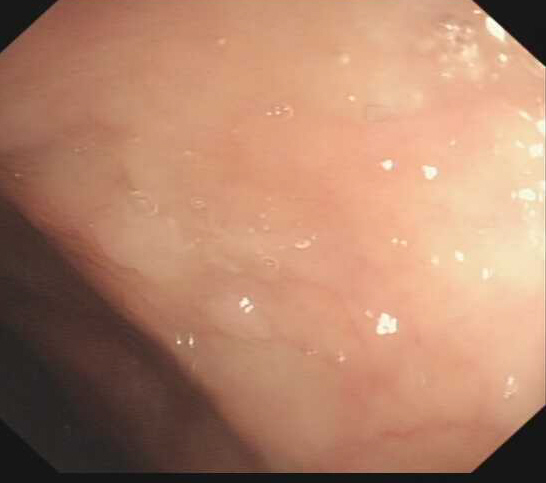others: (94, 202, 192, 285), (203, 292, 278, 343)
